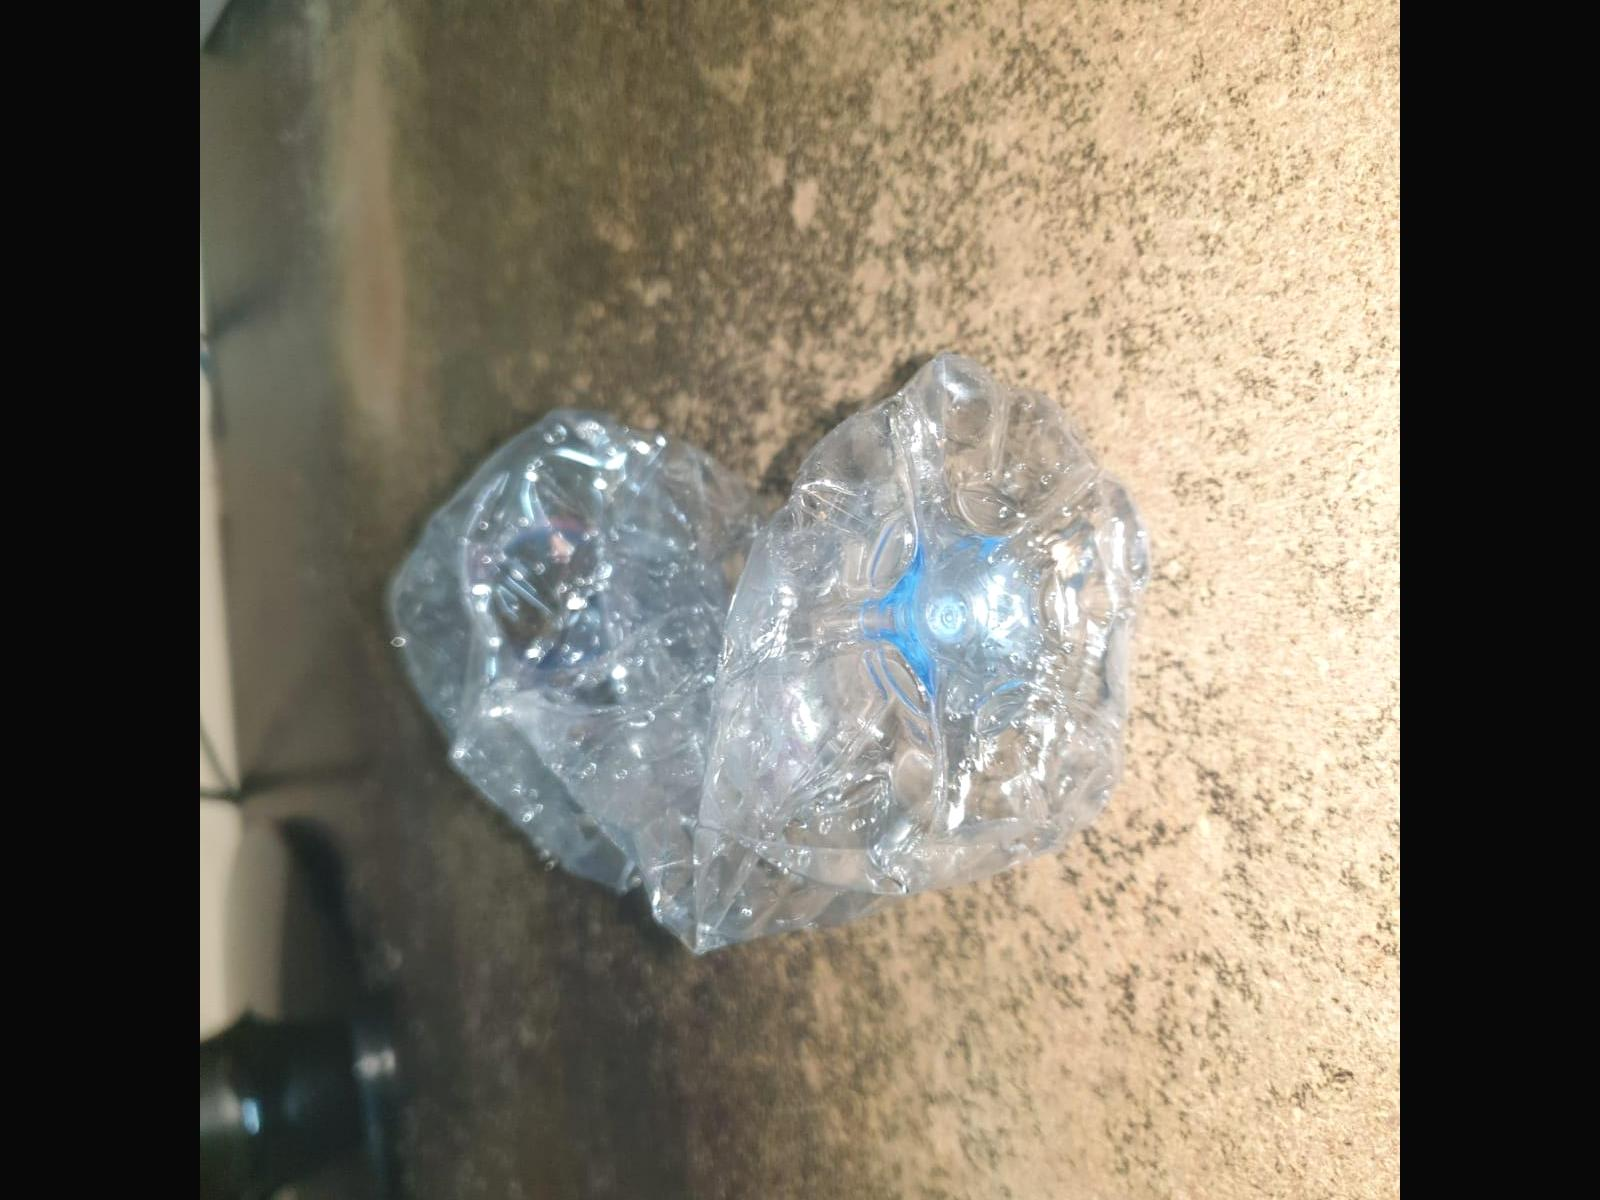bottle: (381, 349, 1161, 954)
